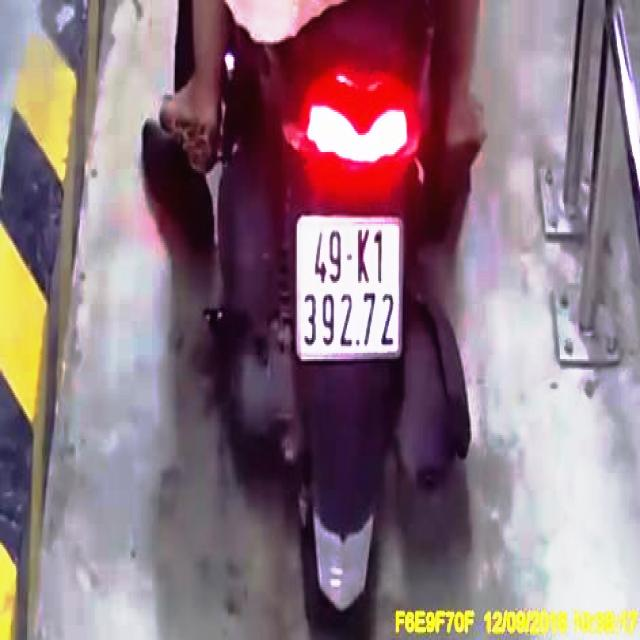license_plate: (296, 217, 403, 357)
